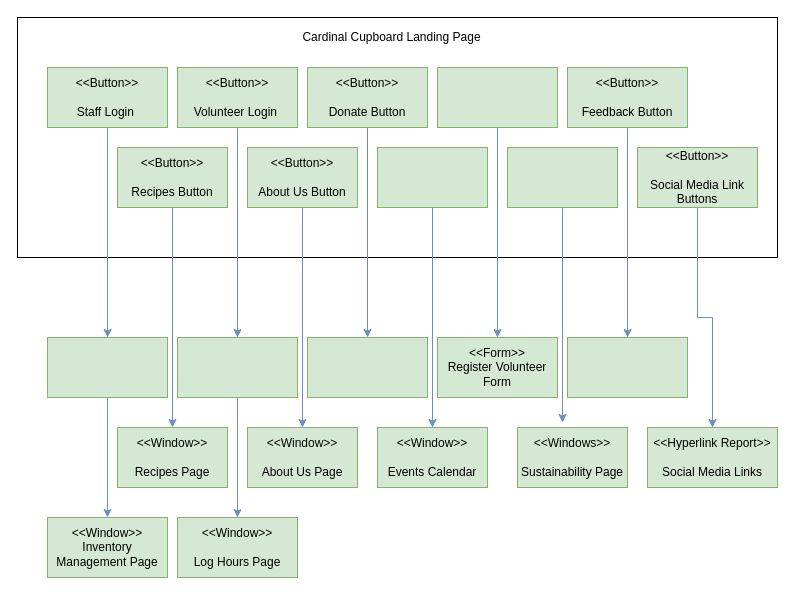
Image size: 795x595. Some labels were removed from this diagram. Here are the shapes that lost their labels. From the top down, the centre of each, then its label:
At (497,97): "<<Button>> Volunteer Button".
At (432,177): "<<Button>> Events Button".
At (562,177): "<<Button>> Sustainability Button".
At (107,367): "<<Window>> Staff Login Page".
At (237,367): "<<Window>> Volunteer Login Page".
At (367,367): "<<Form>> Donation Form".
At (627,367): "<<Form>> Feedback Form".
